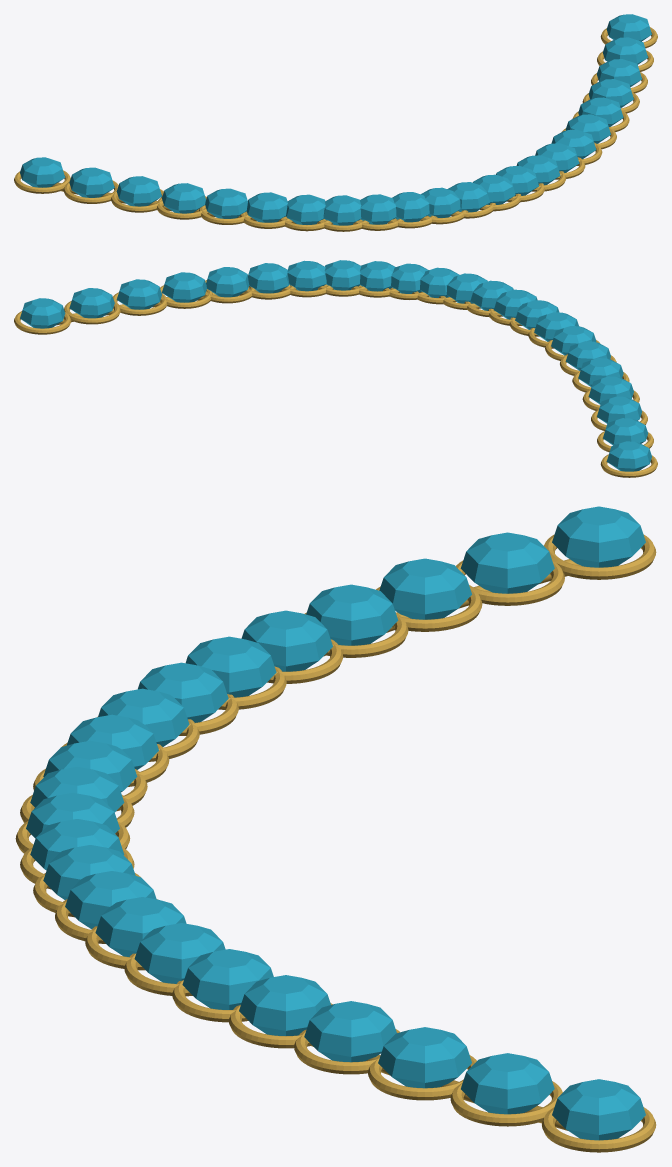
3 renders of one model, top to bottom at view 1: azimuth 30°, elevation 25°; view 2: azimuth 150°, elevation 25°; view 3: azimuth 270°, elevation 25°, orthographic. The views are drawn at different scales.
Visible parts, largest first — view 1: TI020 / individual astramarine 1, TI020 / individual astramarine 2, TI020 / individual astramarine 0, TI020 / individual astramarine 3, TI020 / individual astramarine 4, TI020 / individual astramarine 5, TI020 / individual astramarine 6, TI020 / individual astramarine 7, TI020 / individual astramarine 22, TI020 / individual astramarine 8, TI020 / individual astramarine 21, TI020 / individual astramarine 9 (+17 smaller); view 2: TI020 / individual astramarine 22, TI020 / individual astramarine 0, TI020 / individual astramarine 19, TI020 / individual astramarine 20, TI020 / individual astramarine 21, TI020 / individual astramarine 18, TI020 / individual astramarine 17, TI020 / individual astramarine 16, TI020 / individual astramarine 1, TI020 / individual astramarine 15, TI020 / individual astramarine 2, TI020 / individual astramarine 14 (+17 smaller); view 3: TI020 / individual astramarine 0, TI020 / individual astramarine 21, TI020 / individual astramarine 1, TI020 / individual astramarine 22, TI020 / individual astramarine 20, TI020 / individual astramarine 2, TI020 / individual astramarine 19, TI020 / individual astramarine 3, TI020 / individual astramarine 18, TI020 / individual astramarine 4, TI020 / individual astramarine 17, TI020 / individual astramarine 16 (+22 smaller).
Boxes of the visible parts, x1,y1,x2,y2 form: TI020 / individual astramarine 1: (69, 167, 114, 197); TI020 / individual astramarine 2: (116, 176, 161, 206); TI020 / individual astramarine 0: (20, 157, 65, 187); TI020 / individual astramarine 3: (162, 183, 205, 213); TI020 / individual astramarine 4: (205, 188, 247, 218); TI020 / individual astramarine 5: (246, 192, 287, 222); TI020 / individual astramarine 6: (286, 194, 325, 224); TI020 / individual astramarine 7: (323, 195, 361, 225); TI020 / individual astramarine 22: (606, 14, 651, 41); TI020 / individual astramarine 8: (360, 194, 396, 224); TI020 / individual astramarine 21: (603, 37, 648, 64); TI020 / individual astramarine 9: (392, 192, 429, 222); TI020 / individual astramarine 22: (20, 298, 65, 328); TI020 / individual astramarine 0: (606, 441, 651, 471); TI020 / individual astramarine 19: (162, 272, 206, 302); TI020 / individual astramarine 20: (116, 279, 161, 309); TI020 / individual astramarine 21: (69, 288, 114, 318); TI020 / individual astramarine 18: (206, 267, 249, 297); TI020 / individual astramarine 17: (248, 263, 289, 293); TI020 / individual astramarine 16: (287, 260, 326, 291); TI020 / individual astramarine 1: (603, 418, 648, 445); TI020 / individual astramarine 15: (324, 260, 361, 290); TI020 / individual astramarine 2: (597, 396, 642, 423); TI020 / individual astramarine 14: (360, 261, 395, 291); TI020 / individual astramarine 0: (552, 506, 645, 567); TI020 / individual astramarine 21: (461, 1053, 554, 1114); TI020 / individual astramarine 1: (460, 532, 554, 593); TI020 / individual astramarine 22: (552, 1079, 645, 1140); TI020 / individual astramarine 20: (378, 1027, 471, 1088); TI020 / individual astramarine 2: (379, 558, 471, 619); TI020 / individual astramarine 19: (304, 1001, 396, 1062); TI020 / individual astramarine 3: (306, 584, 398, 645); TI020 / individual astramarine 18: (239, 975, 330, 1035); TI020 / individual astramarine 4: (241, 610, 332, 671); TI020 / individual astramarine 17: (182, 949, 273, 1009); TI020 / individual astramarine 16: (134, 923, 225, 983).
Size of the model in its own units: 4.06 by 0.1651 by 1.77.
